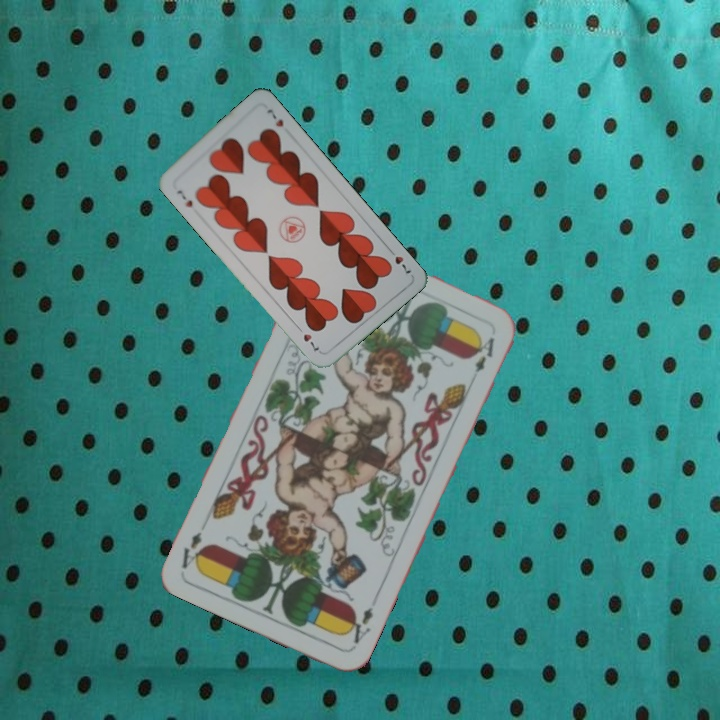EA: (341, 603, 376, 646)
H7: (384, 244, 414, 276), (173, 186, 195, 210)
